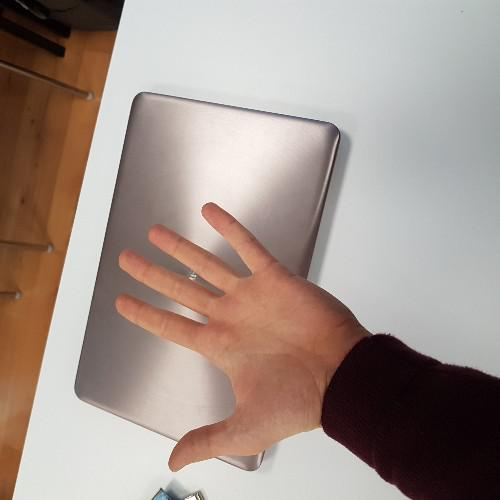paper: (103, 193, 384, 477)
